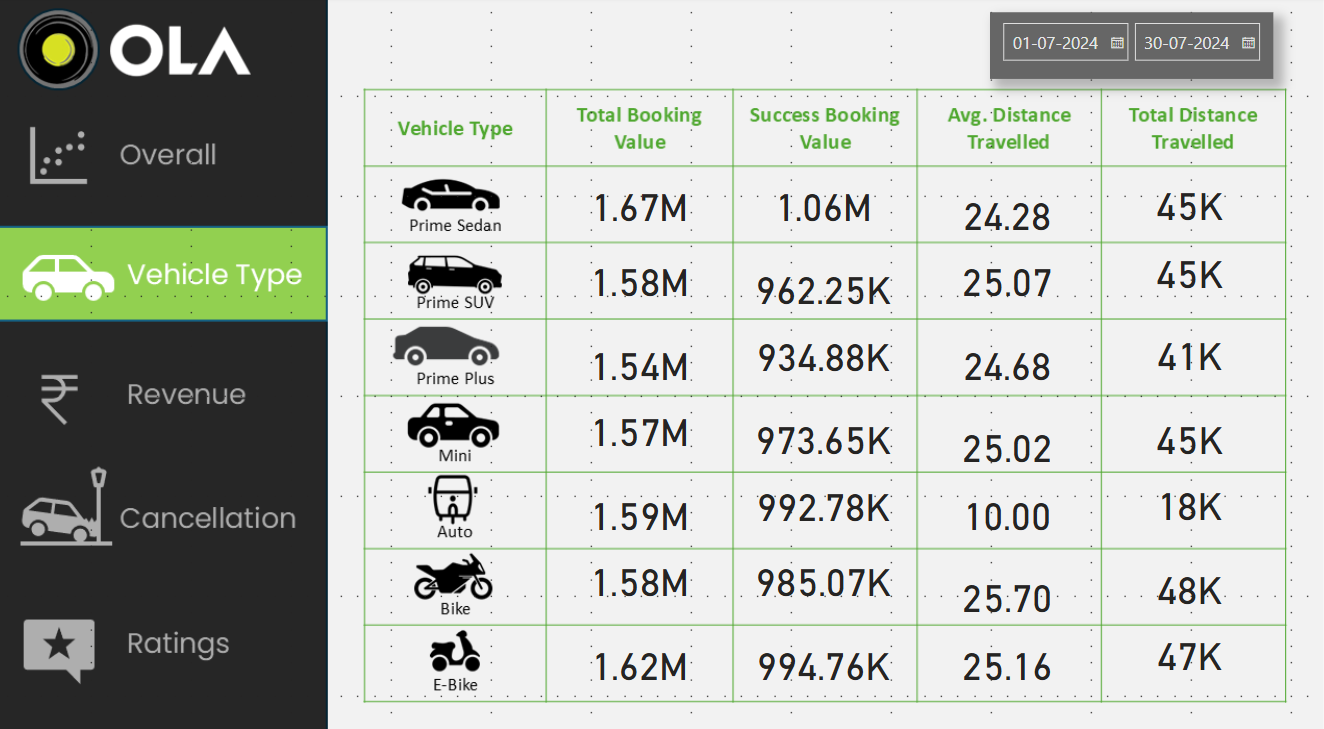

The page's visual inventory and layout, read from the dashboard file:
{"tool":"powerbi","page":{"name":"Vehicle Type","canvas":[1280,720],"ordinal":1},"visuals":[{"type":"actionButton","box":[0,112,320,96],"z":0},{"type":"actionButton","box":[0,336,320,96],"z":1000},{"type":"actionButton","box":[0,448,320,96],"z":2000},{"type":"actionButton","box":[0,576,320,96],"z":3000},{"type":"card","fields":{"Values":["Sum(Booking1.Booking_Value)"]},"box":[544,176,160,48],"z":4000},{"type":"card","fields":{"Values":["Sum(Booking1.Booking_Value)"]},"box":[544,240,160,64],"z":5000},{"type":"card","fields":{"Values":["Sum(Booking1.Booking_Value)"]},"box":[544,320,160,64],"z":6000},{"type":"card","fields":{"Values":["Sum(Booking1.Booking_Value)"]},"box":[544,384,160,64],"z":7000},{"type":"card","fields":{"Values":["Sum(Booking1.Booking_Value)"]},"box":[544,464,160,64],"z":8000},{"type":"card","fields":{"Values":["Sum(Booking1.Booking_Value)"]},"box":[544,528,160,64],"z":9000},{"type":"card","fields":{"Values":["Sum(Booking1.Booking_Value)"]},"box":[544,608,160,64],"z":10000},{"type":"card","fields":{"Values":["Sum(Booking1.Booking_Value)"]},"box":[720,176,160,48],"z":11000},{"type":"card","fields":{"Values":["Sum(Booking1.Booking_Value)"]},"box":[720,256,160,48],"z":12000},{"type":"card","fields":{"Values":["Sum(Booking1.Booking_Value)"]},"box":[720,320,160,48],"z":13000},{"type":"card","fields":{"Values":["Sum(Booking1.Booking_Value)"]},"box":[720,400,160,48],"z":14000},{"type":"card","fields":{"Values":["Sum(Booking1.Booking_Value)"]},"box":[720,464,160,48],"z":15000},{"type":"card","fields":{"Values":["Sum(Booking1.Booking_Value)"]},"box":[720,528,160,64],"z":16000},{"type":"card","fields":{"Values":["Sum(Booking1.Booking_Value)"]},"box":[720,608,160,64],"z":17000},{"type":"card","fields":{"Values":["Avg(Booking1.Ride_Distance)"]},"box":[896,176,160,64],"z":18000},{"type":"card","fields":{"Values":["Avg(Booking1.Ride_Distance)"]},"box":[896,320,160,64],"z":19000},{"type":"card","fields":{"Values":["Avg(Booking1.Ride_Distance)"]},"box":[896,400,160,64],"z":20000},{"type":"card","fields":{"Values":["Avg(Booking1.Ride_Distance)"]},"box":[896,464,160,64],"z":21000},{"type":"card","fields":{"Values":["Avg(Booking1.Ride_Distance)"]},"box":[896,544,160,64],"z":22000},{"type":"card","fields":{"Values":["Avg(Booking1.Ride_Distance)"]},"box":[896,608,160,64],"z":23000},{"type":"card","fields":{"Values":["Avg(Booking1.Ride_Distance)"]},"box":[896,240,160,64],"z":24000},{"type":"card","fields":{"Values":["Sum(Booking1.Ride_Distance)"]},"box":[1072,160,160,80],"z":25000},{"type":"card","fields":{"Values":["Sum(Booking1.Ride_Distance)"]},"box":[1072,304,160,80],"z":26000},{"type":"card","fields":{"Values":["Sum(Booking1.Ride_Distance)"]},"box":[1072,384,160,80],"z":27000},{"type":"card","fields":{"Values":["Sum(Booking1.Ride_Distance)"]},"box":[1072,448,160,80],"z":28000},{"type":"card","fields":{"Values":["Sum(Booking1.Ride_Distance)"]},"box":[1072,528,160,80],"z":29000},{"type":"card","fields":{"Values":["Sum(Booking1.Ride_Distance)"]},"box":[1072,592,160,80],"z":30000},{"type":"card","fields":{"Values":["Sum(Booking1.Ride_Distance)"]},"box":[1072,224,160,80],"z":31000},{"type":"slicer","title":"DATE","fields":{"Values":["Booking1.Date"]},"box":[960,16,272,64],"z":32000}]}

Visuals, with their boxes on the page's 1280x720 design canvas (x1, y1, x2, y2). These are canvas units, not pixel positions in the 1324x729 screenshot, which may show the page scaled, cropped or inside an application window:
actionButton: detection(0, 112, 320, 208)
actionButton: detection(0, 336, 320, 432)
actionButton: detection(0, 448, 320, 544)
actionButton: detection(0, 576, 320, 672)
card - Sum(Booking1.Booking_Value): detection(544, 176, 704, 224)
card - Sum(Booking1.Booking_Value): detection(544, 240, 704, 304)
card - Sum(Booking1.Booking_Value): detection(544, 320, 704, 384)
card - Sum(Booking1.Booking_Value): detection(544, 384, 704, 448)
card - Sum(Booking1.Booking_Value): detection(544, 464, 704, 528)
card - Sum(Booking1.Booking_Value): detection(544, 528, 704, 592)
card - Sum(Booking1.Booking_Value): detection(544, 608, 704, 672)
card - Sum(Booking1.Booking_Value): detection(720, 176, 880, 224)
card - Sum(Booking1.Booking_Value): detection(720, 256, 880, 304)
card - Sum(Booking1.Booking_Value): detection(720, 320, 880, 368)
card - Sum(Booking1.Booking_Value): detection(720, 400, 880, 448)
card - Sum(Booking1.Booking_Value): detection(720, 464, 880, 512)
card - Sum(Booking1.Booking_Value): detection(720, 528, 880, 592)
card - Sum(Booking1.Booking_Value): detection(720, 608, 880, 672)
card - Avg(Booking1.Ride_Distance): detection(896, 176, 1056, 240)
card - Avg(Booking1.Ride_Distance): detection(896, 320, 1056, 384)
card - Avg(Booking1.Ride_Distance): detection(896, 400, 1056, 464)
card - Avg(Booking1.Ride_Distance): detection(896, 464, 1056, 528)
card - Avg(Booking1.Ride_Distance): detection(896, 544, 1056, 608)
card - Avg(Booking1.Ride_Distance): detection(896, 608, 1056, 672)
card - Avg(Booking1.Ride_Distance): detection(896, 240, 1056, 304)
card - Sum(Booking1.Ride_Distance): detection(1072, 160, 1232, 240)
card - Sum(Booking1.Ride_Distance): detection(1072, 304, 1232, 384)
card - Sum(Booking1.Ride_Distance): detection(1072, 384, 1232, 464)
card - Sum(Booking1.Ride_Distance): detection(1072, 448, 1232, 528)
card - Sum(Booking1.Ride_Distance): detection(1072, 528, 1232, 608)
card - Sum(Booking1.Ride_Distance): detection(1072, 592, 1232, 672)
card - Sum(Booking1.Ride_Distance): detection(1072, 224, 1232, 304)
"DATE" slicer: detection(960, 16, 1232, 80)
